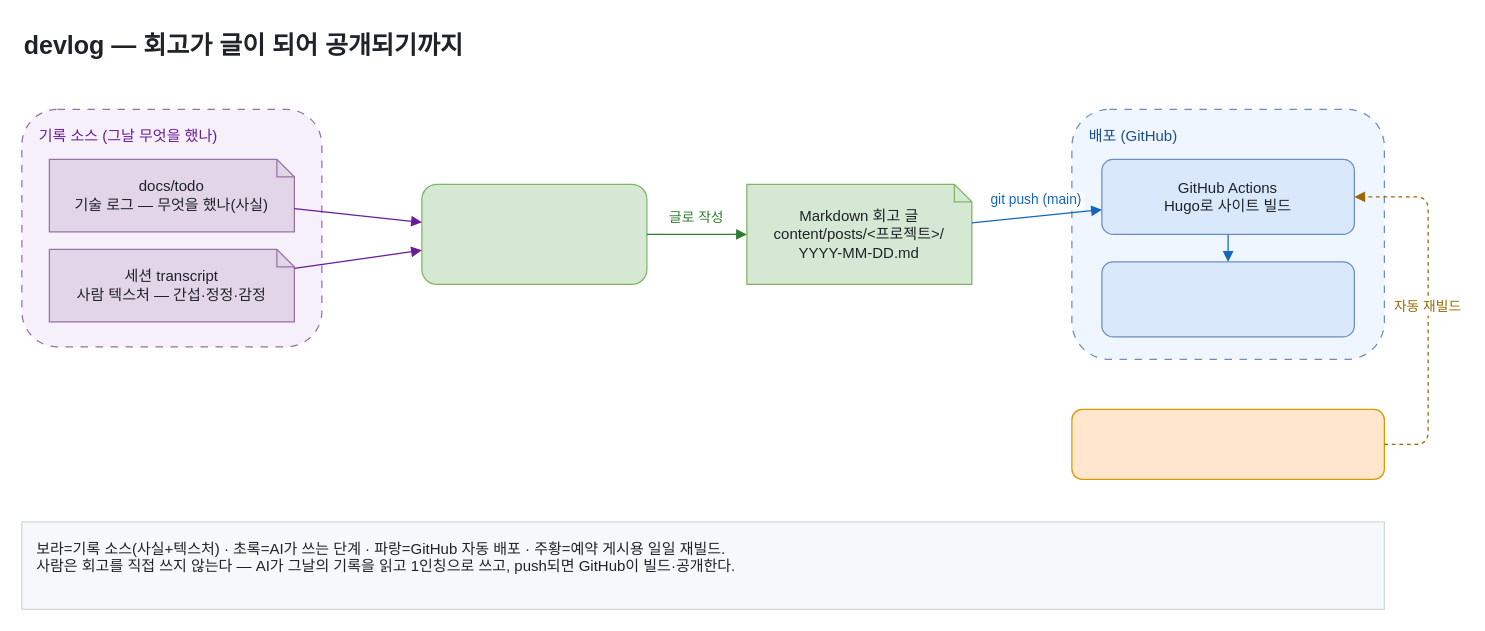
Image size: 1485x631. Some labels were removed from this diagram. The centre of each missing label's shape, as x and y in pixels:
"Claude Code AI가 두 소스를 합쳐 1인칭 회고를 직접 씀" goes at point 534,233.
"GitHub Pages 공개 사이트로 게시" goes at point 1227,299.
"매일 07:05 cron 예약(다음날 아침) 글 재빌드" goes at point 1227,443.
